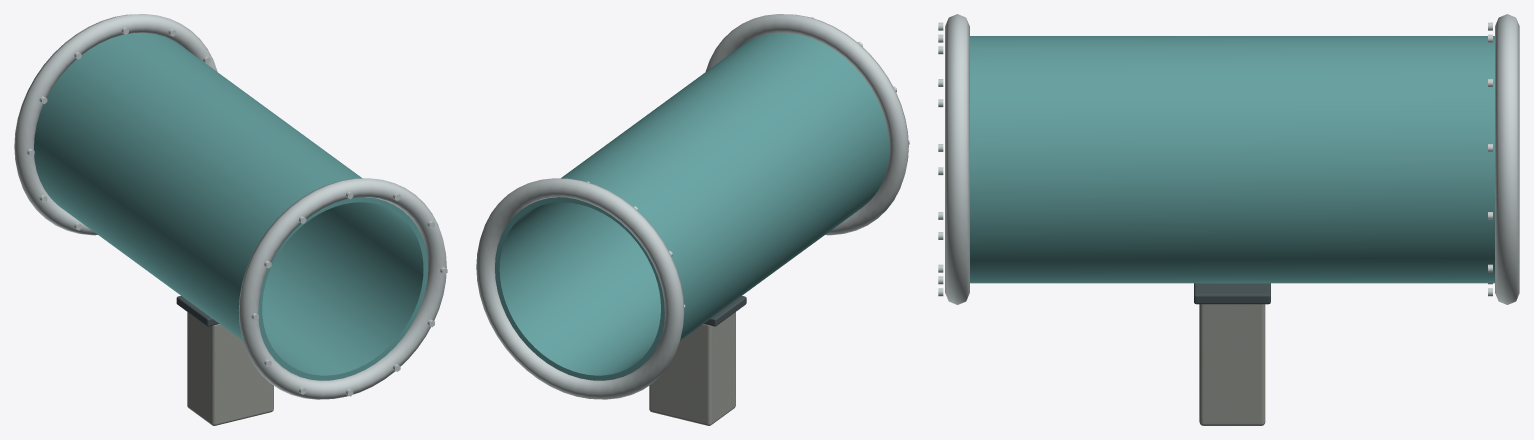
File: hydroelectric-dam-infiltration-penstock-straight-9817fbec__29339.glb
3 renders of one model, left to right at view 1: azimuth 30°, elevation 25°; view 2: azimuth 150°, elevation 25°; view 3: azimuth 270°, elevation 25°, orthographic. The views are drawn at different scales.
Parts seen in each view (by area): view 1: penstock-straight; view 2: penstock-straight; view 3: penstock-straight.
Boxes of the visible parts, bbox=[...] form: penstock-straight: bbox=[14, 14, 447, 425]; penstock-straight: bbox=[476, 14, 909, 425]; penstock-straight: bbox=[938, 14, 1519, 425].
Size of the model in its own units: 1.06 by 1.53 by 2.12.
4 materials, 1 textured.
